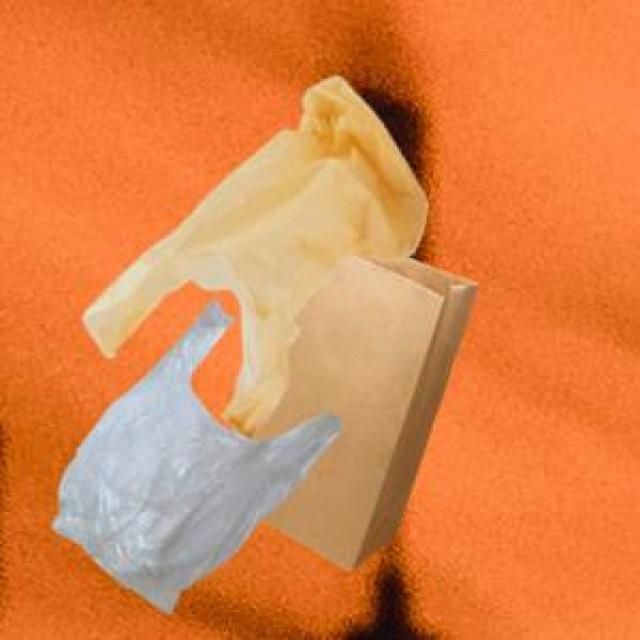paper: (250, 250, 474, 565)
